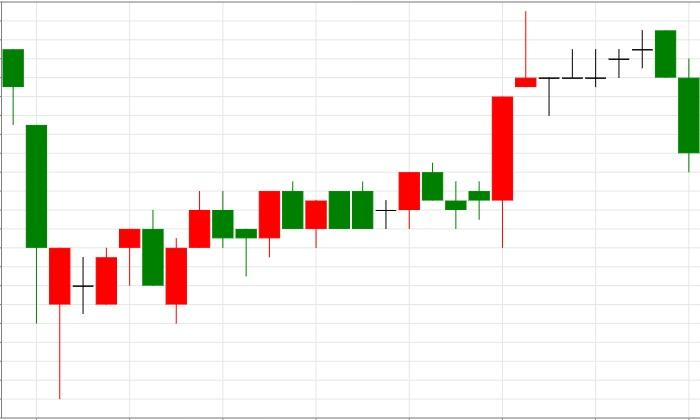hanging_man_fall: (48, 228, 141, 400)
